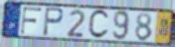2: (66, 8, 87, 39)
8: (134, 11, 155, 42)
9: (111, 9, 131, 43)
C: (87, 9, 111, 40)
F: (20, 6, 43, 35)
P: (42, 6, 65, 38)
